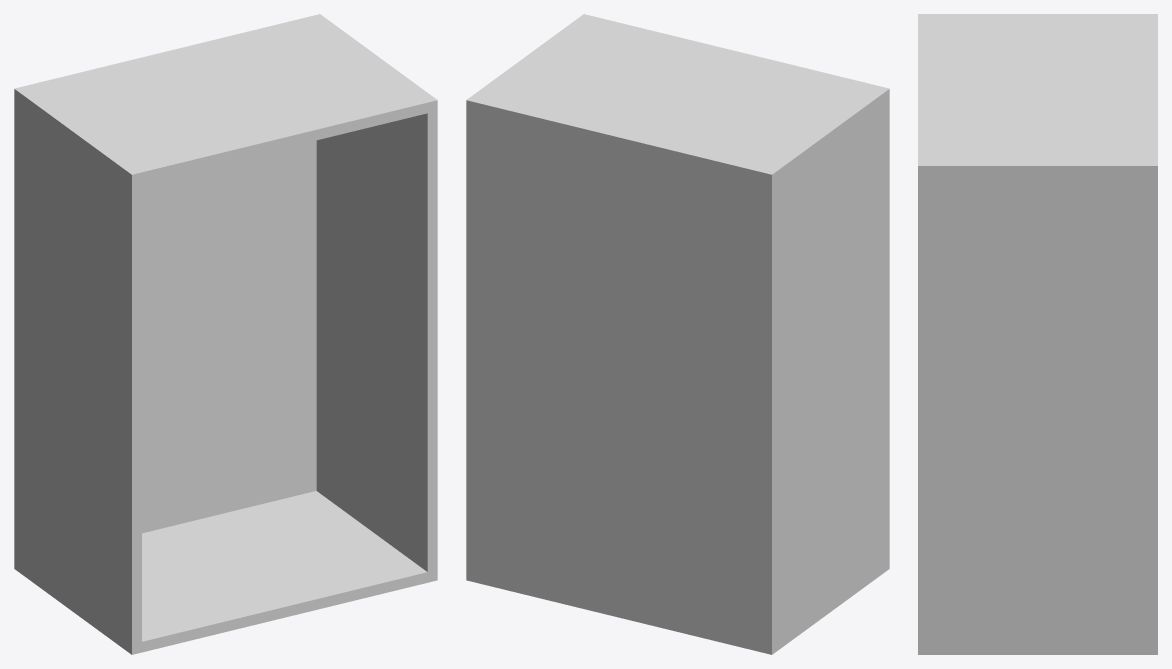
Rendered from Kitchen1_C1_07.fbx.
3 views of the same model, side by side, from view 1: azimuth 30°, elevation 25°; view 2: azimuth 150°, elevation 25°; view 3: azimuth 270°, elevation 25° (orthographic).
Visible parts, largest first — view 1: Kitchen1_C1_07; view 2: Kitchen1_C1_07; view 3: Kitchen1_C1_07.
Part boxes in pixels (bbox=[...]): Kitchen1_C1_07: bbox=[14, 14, 437, 654]; Kitchen1_C1_07: bbox=[466, 14, 889, 654]; Kitchen1_C1_07: bbox=[918, 14, 1157, 654].
Bounding box in the file's own units: 60 × 90 × 40.
